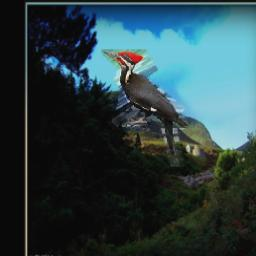Woodpecker: (102, 49, 189, 167)
